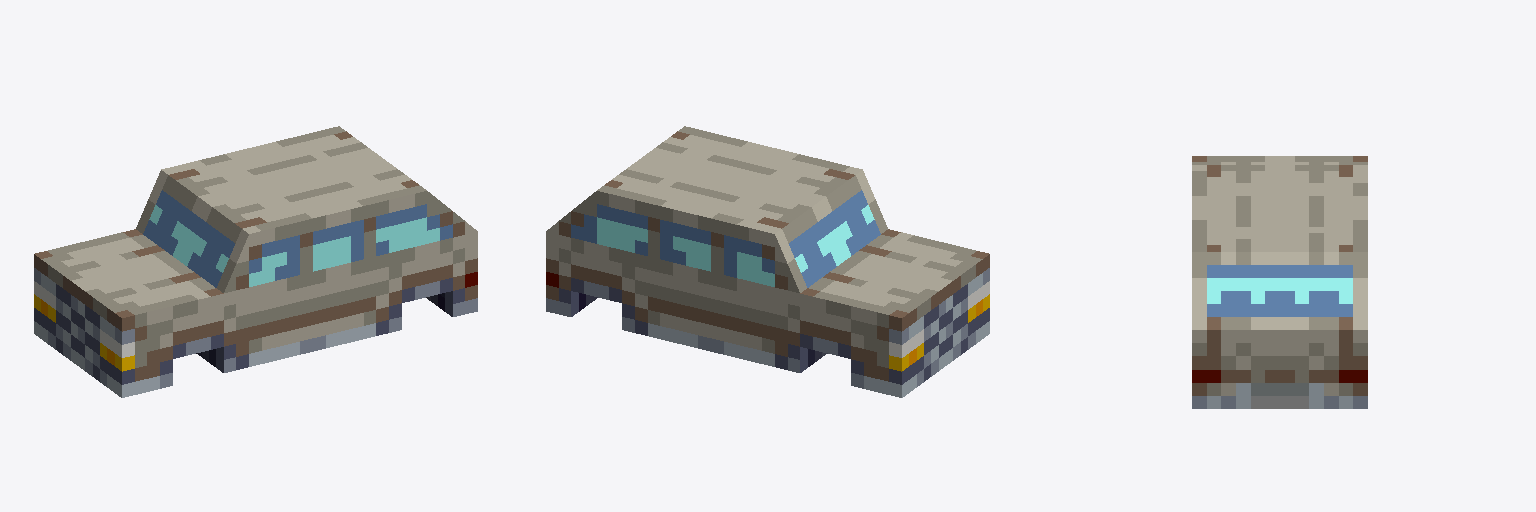
3 views of the same model, side by side, from view 1: azimuth 30°, elevation 25°; view 2: azimuth 150°, elevation 25°; view 3: azimuth 270°, elevation 25° (orthographic).
Parts seen in each view (by area): view 1: cuboid; view 2: cuboid; view 3: cuboid.
Boxes of the visible parts, box(x1,y1,x2,y2) form: cuboid: box(34, 126, 477, 397); cuboid: box(546, 126, 989, 397); cuboid: box(1192, 156, 1367, 408).
Bounding box in the file's own units: 0.875 × 0.3125 × 0.375.
Materials: 1 (1 with a texture image).